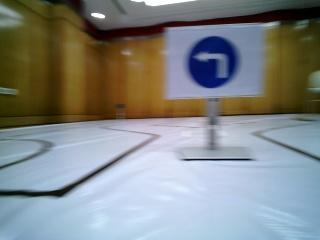left: (165, 24, 264, 98)
